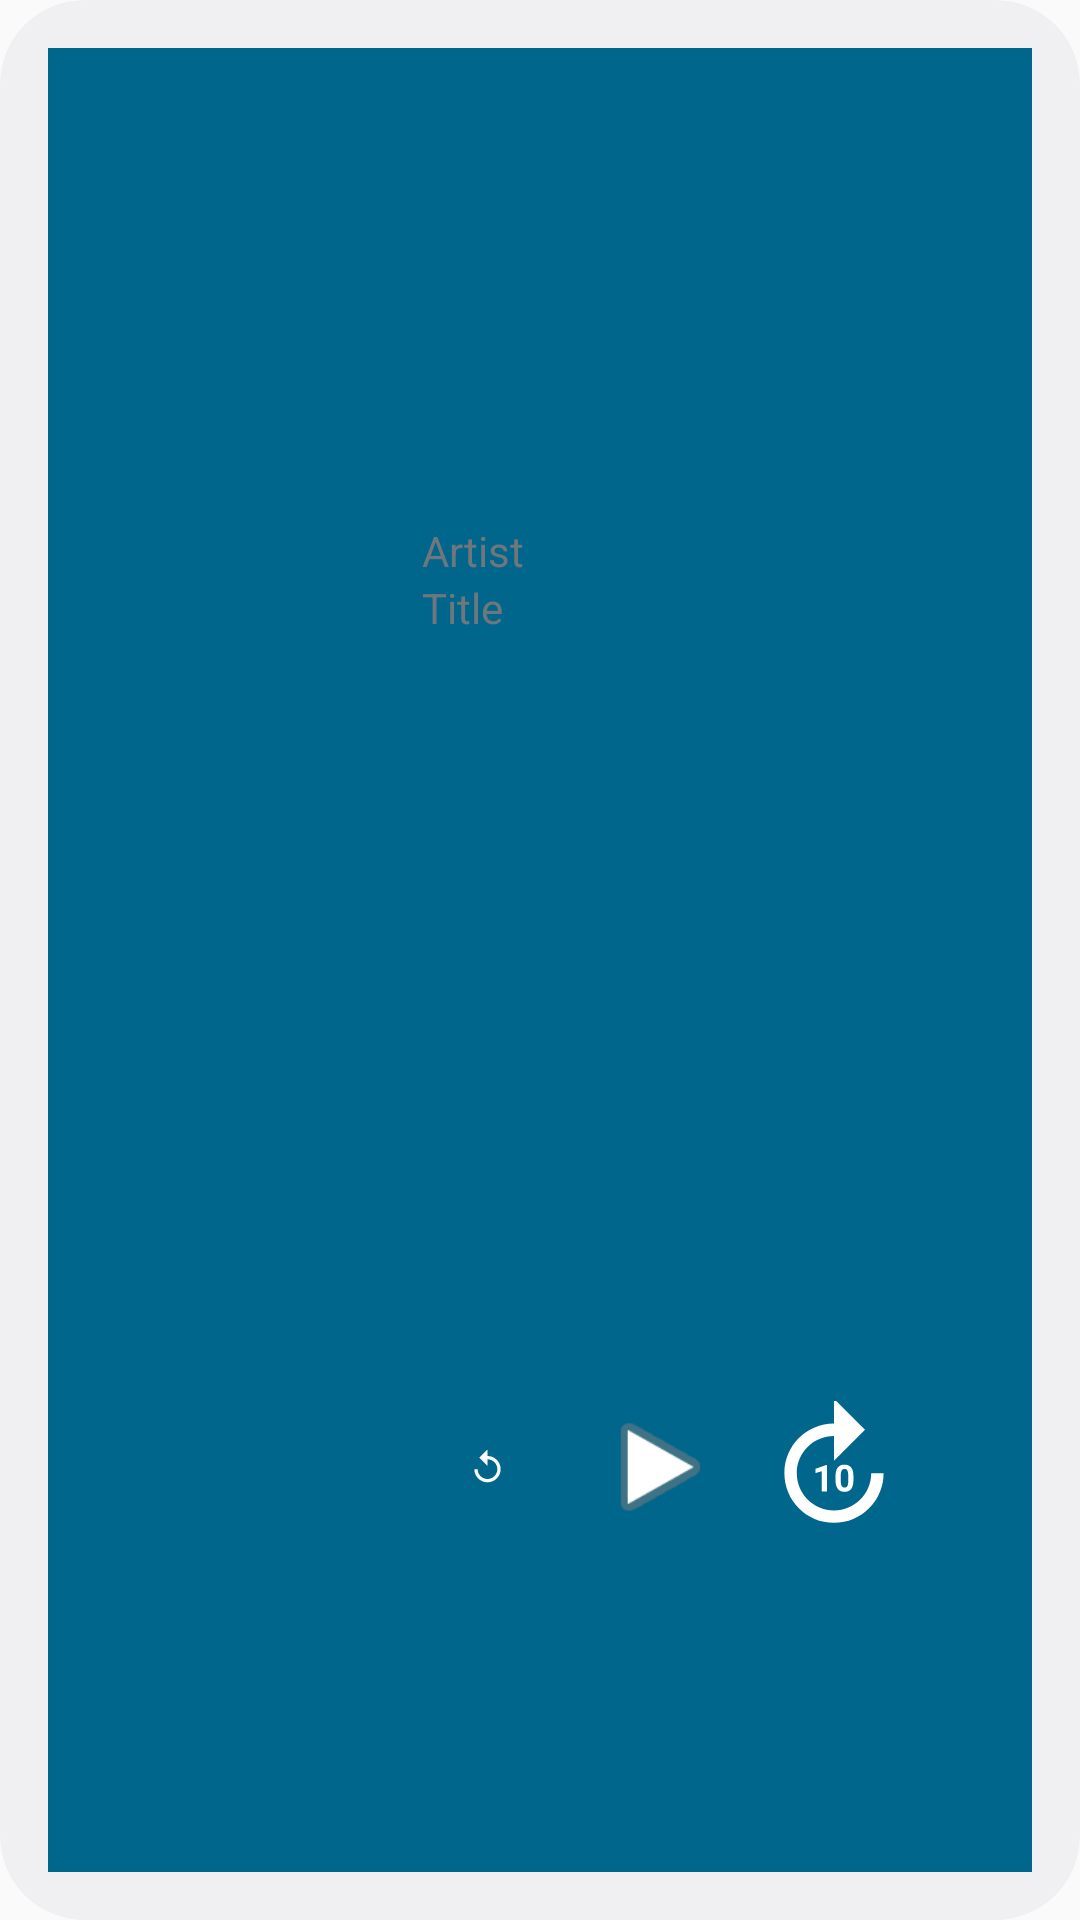

Screen size 1080*1920. Icon name, then its box in pixels as region(x1, y1, x2, y2):
exo fastforward: region(784, 1401, 884, 1523)
exo rewind: region(474, 1450, 501, 1483)
play: region(621, 1423, 700, 1511)
